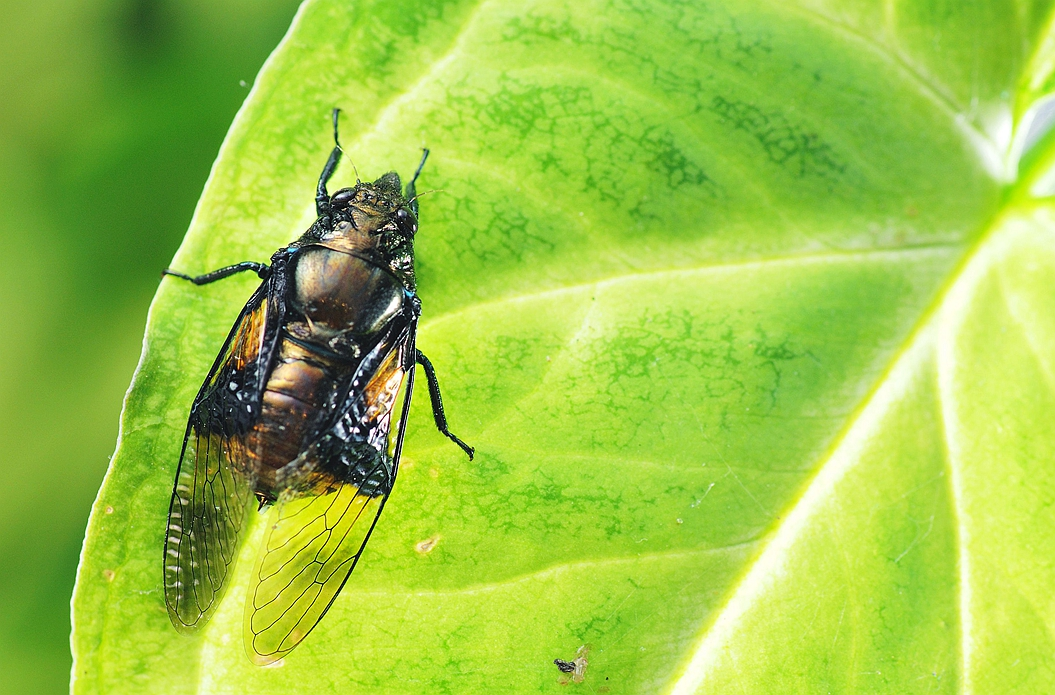chan: (146, 154, 455, 633)
